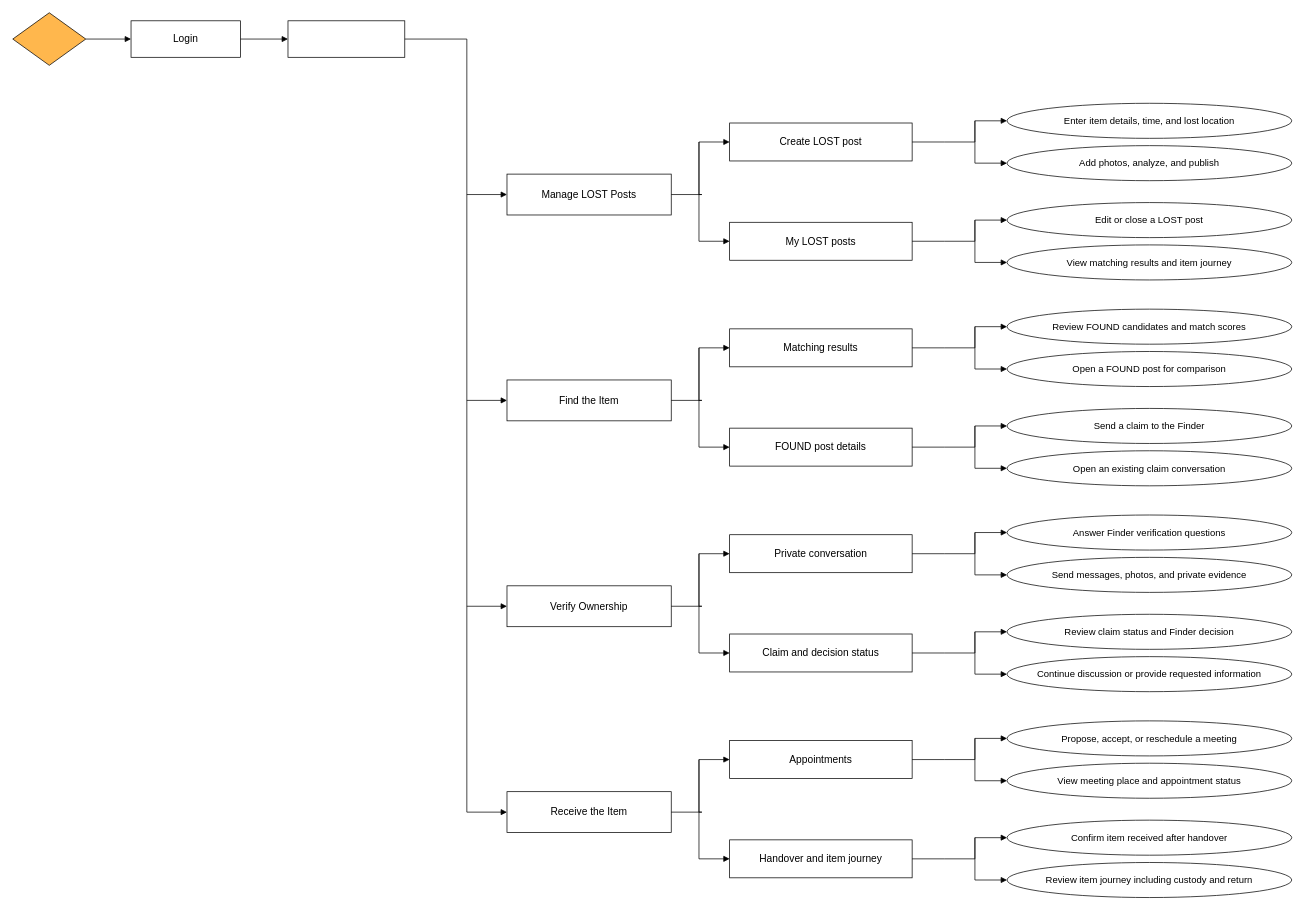
The diagram is 1305 pixels wide and 910 high, and some of its shapes have lost their labels. Each missing label, with the box of its shape:
Dashboard: (287, 20, 405, 57)
Owner: (12, 12, 86, 65)
